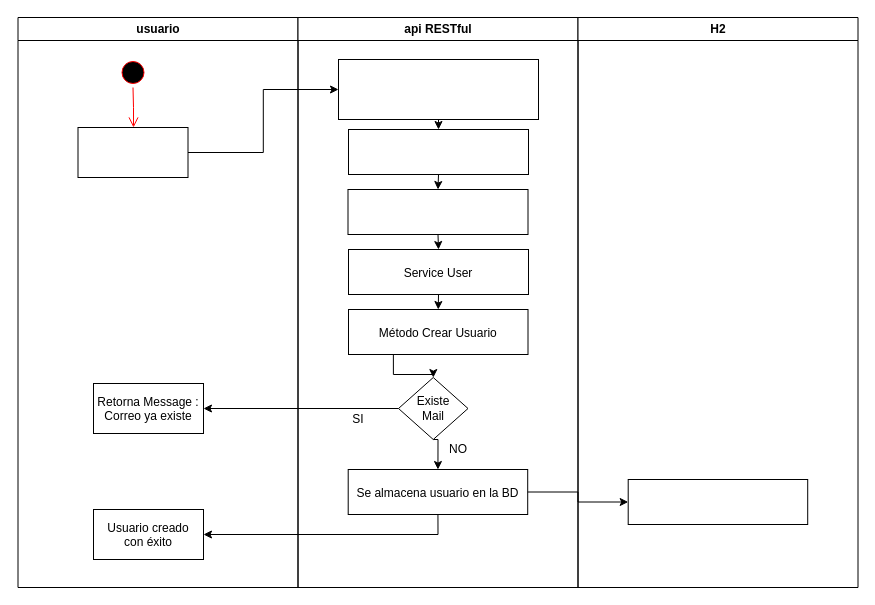
Some shapes in this 875 by 605 pixel diagram are drawn without their labels. Here are the shapes that lost their labels. From the top down, the centre of each, then its label:
At [438,89]: "localhost:9090/user/create".
At [132,152]: "envia JSON".
At [438,151]: "Valida Formato de Correo".
At [437,211]: "Valida Formato de Password".
At [717,501]: "Se crea el UUID de usuario nuevo".
